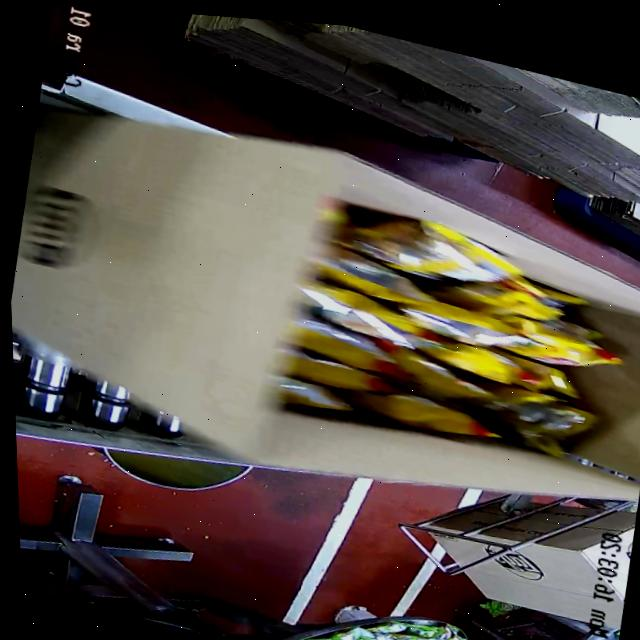SALTED: (305, 191, 629, 480)
